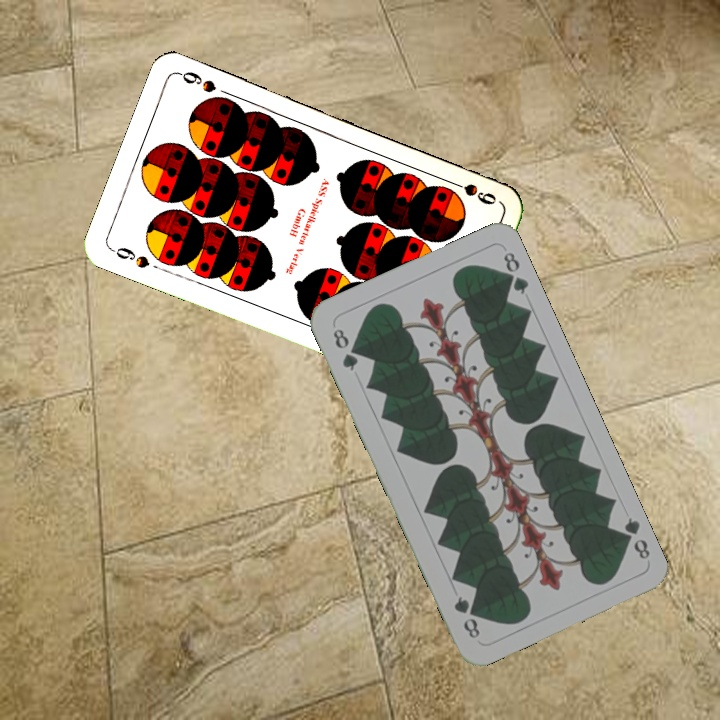G8: (614, 513, 653, 562), (328, 324, 361, 374)
S9: (444, 176, 499, 208), (107, 243, 152, 271)
